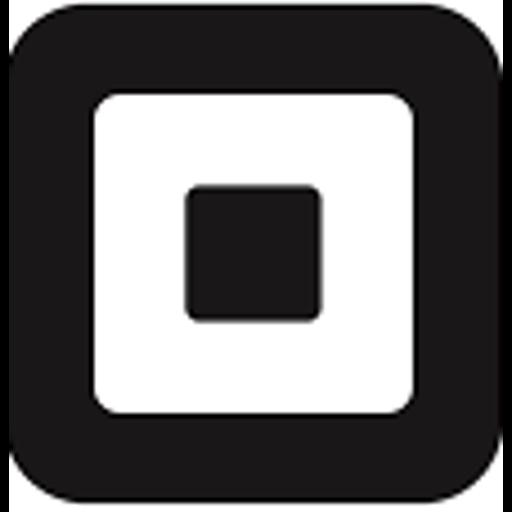Square: (9, 0, 503, 512)
